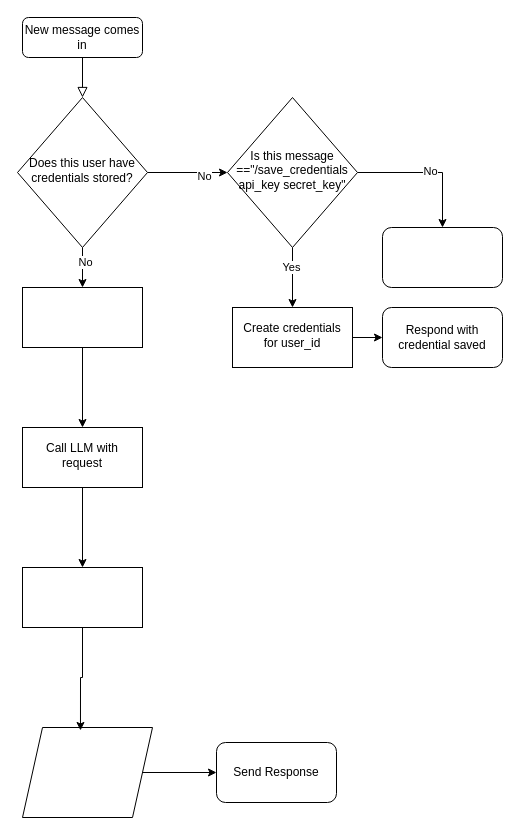
Image size: 520x835. Some labels were removed from this diagram. Each missing label, with the centre of its shape:
"Dynamically run binance integration using fetched credentials" goes at [87,772].
"Send Typing action" goes at [82,317].
"Tell user how to save credentials" goes at [442,257].
"Use any actions to Perform task" goes at [82,597].
